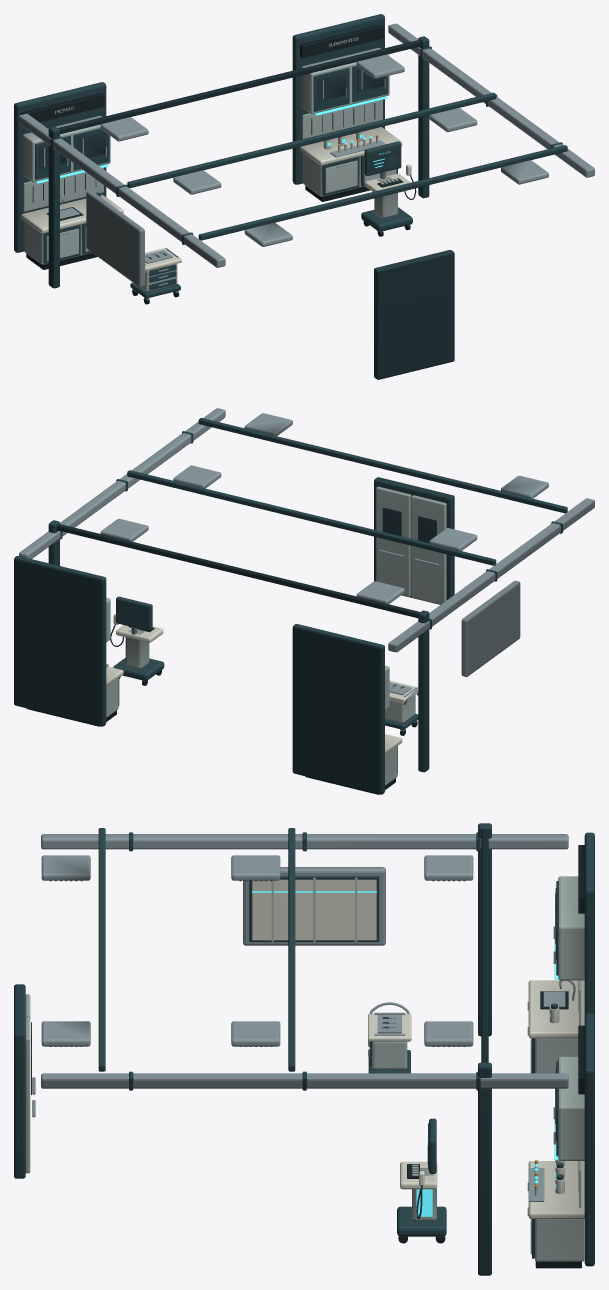
File: entorno-arena-acabado.glb
3 renders of one model, top to bottom at view 1: azimuth 30°, elevation 25°; view 2: azimuth 150°, elevation 25°; view 3: azimuth 270°, elevation 25°, orthographic. The views are drawn at different scales.
Visible parts, largest first — view 1: Entorno_Petroleo_Acabado.002, Entorno_Metal_Acabado.002, Entorno_Esmalte_Acabado.002, Entorno_Marfim_Acabado.002, Entorno_Borracha_Acabado.002, Entorno_Visor_Opaco_Acabado.002, Entorno_Ciano_Acabado.002; view 2: Entorno_Petroleo_Acabado.002, Entorno_Metal_Acabado.002, Entorno_Esmalte_Acabado.002, Entorno_Marfim_Acabado.002, Entorno_Visor_Opaco_Acabado.002, Entorno_Borracha_Acabado.002; view 3: Entorno_Metal_Acabado.002, Entorno_Petroleo_Acabado.002, Entorno_Marfim_Acabado.002, Entorno_Esmalte_Acabado.002, Entorno_Borracha_Acabado.002, Entorno_Visor_Opaco_Acabado.002, Entorno_Ciano_Acabado.002.
Boxes of the visible parts, x1=… form: Entorno_Petroleo_Acabado.002: x1=14, y1=14, x2=567, y2=379; Entorno_Metal_Acabado.002: x1=19, y1=23, x2=594, y2=299; Entorno_Esmalte_Acabado.002: x1=22, y1=47, x2=398, y2=291; Entorno_Marfim_Acabado.002: x1=21, y1=37, x2=411, y2=270; Entorno_Borracha_Acabado.002: x1=21, y1=24, x2=416, y2=304; Entorno_Visor_Opaco_Acabado.002: x1=39, y1=69, x2=399, y2=173; Entorno_Ciano_Acabado.002: x1=35, y1=96, x2=390, y2=241; Entorno_Petroleo_Acabado.002: x1=14, y1=418, x2=567, y2=794; Entorno_Metal_Acabado.002: x1=19, y1=408, x2=594, y2=731; Entorno_Esmalte_Acabado.002: x1=106, y1=486, x2=446, y2=785; Entorno_Marfim_Acabado.002: x1=106, y1=613, x2=418, y2=754; Entorno_Visor_Opaco_Acabado.002: x1=382, y1=507, x2=436, y2=542; Entorno_Borracha_Acabado.002: x1=26, y1=624, x2=417, y2=794; Entorno_Metal_Acabado.002: x1=32, y1=834, x2=575, y2=1237; Entorno_Petroleo_Acabado.002: x1=14, y1=823, x2=594, y2=1275; Entorno_Marfim_Acabado.002: x1=252, y1=879, x2=584, y2=1218; Entorno_Esmalte_Acabado.002: x1=25, y1=876, x2=584, y2=1261; Entorno_Borracha_Acabado.002: x1=50, y1=845, x2=584, y2=1268; Entorno_Visor_Opaco_Acabado.002: x1=31, y1=876, x2=556, y2=1169; Entorno_Ciano_Acabado.002: x1=252, y1=891, x2=558, y2=1216.
Bounding box in the file's own units: 9.07 × 3.6 × 9.03.
